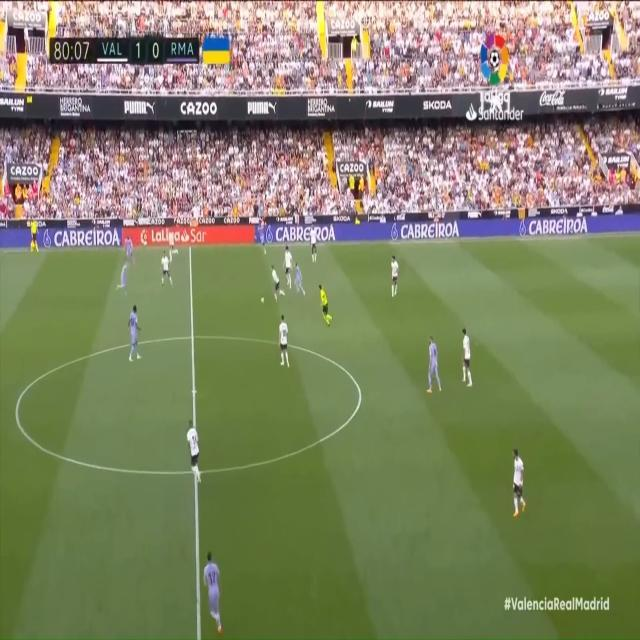ball: (259, 294, 268, 308)
player: (202, 547, 227, 638), (509, 445, 529, 522), (185, 417, 203, 488), (426, 332, 445, 395), (127, 303, 142, 372), (461, 325, 475, 391), (277, 313, 292, 370), (158, 251, 176, 291), (268, 261, 284, 303), (293, 260, 308, 298), (117, 261, 132, 297), (255, 221, 269, 259), (122, 233, 136, 270), (308, 224, 320, 265), (284, 245, 295, 288), (391, 254, 401, 299), (169, 235, 178, 262)
referee: (317, 283, 334, 326), (30, 212, 40, 257)
